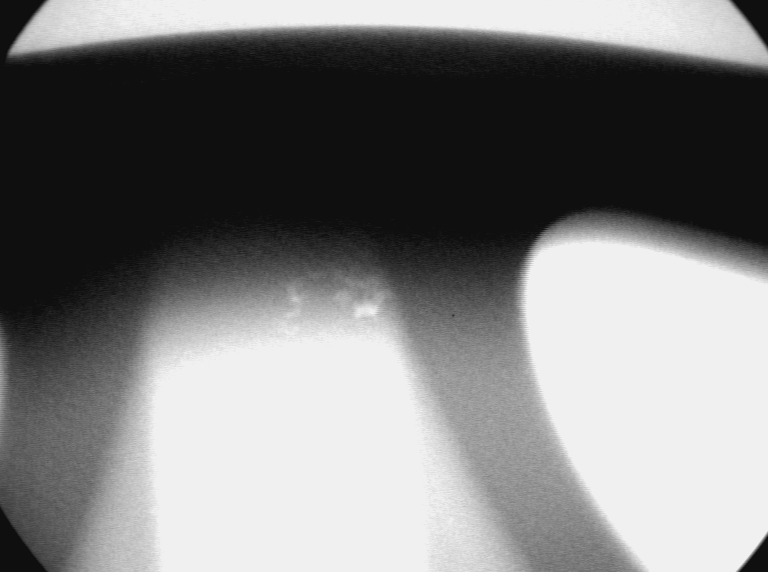defect: (274, 266, 399, 342)
